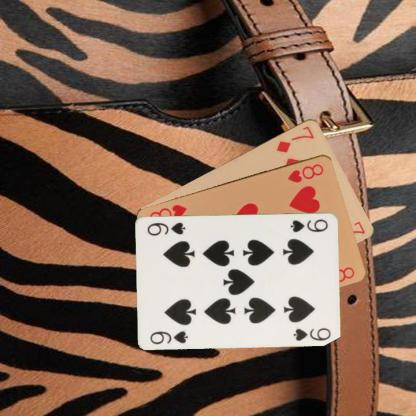7d: (274, 123, 315, 154)
8h: (285, 160, 325, 184)
9s: (288, 216, 329, 234), (148, 328, 189, 346)
